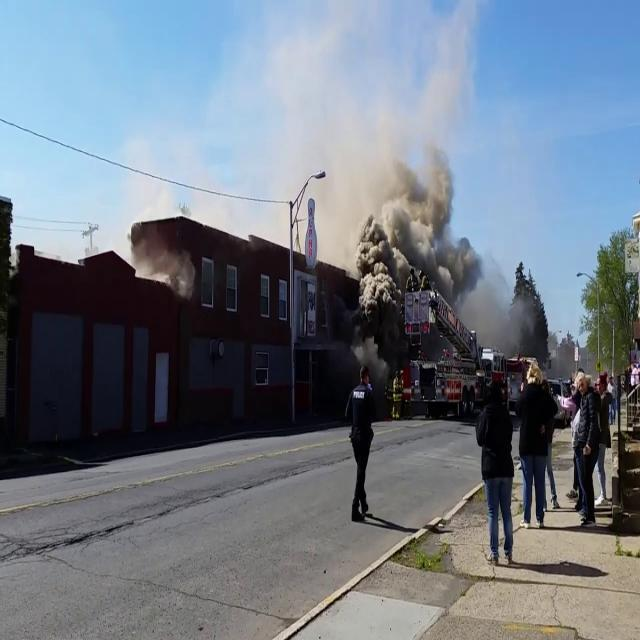Smoke: (324, 54, 552, 364)
